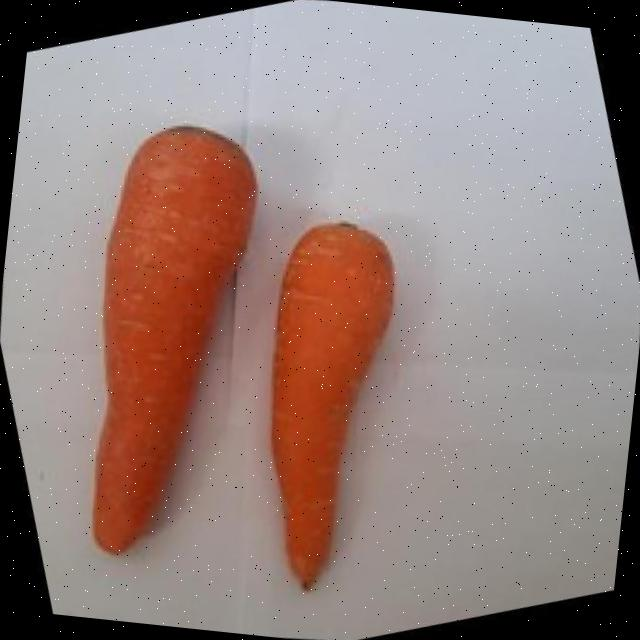carrot: (92, 125, 255, 551), (271, 222, 393, 589)
